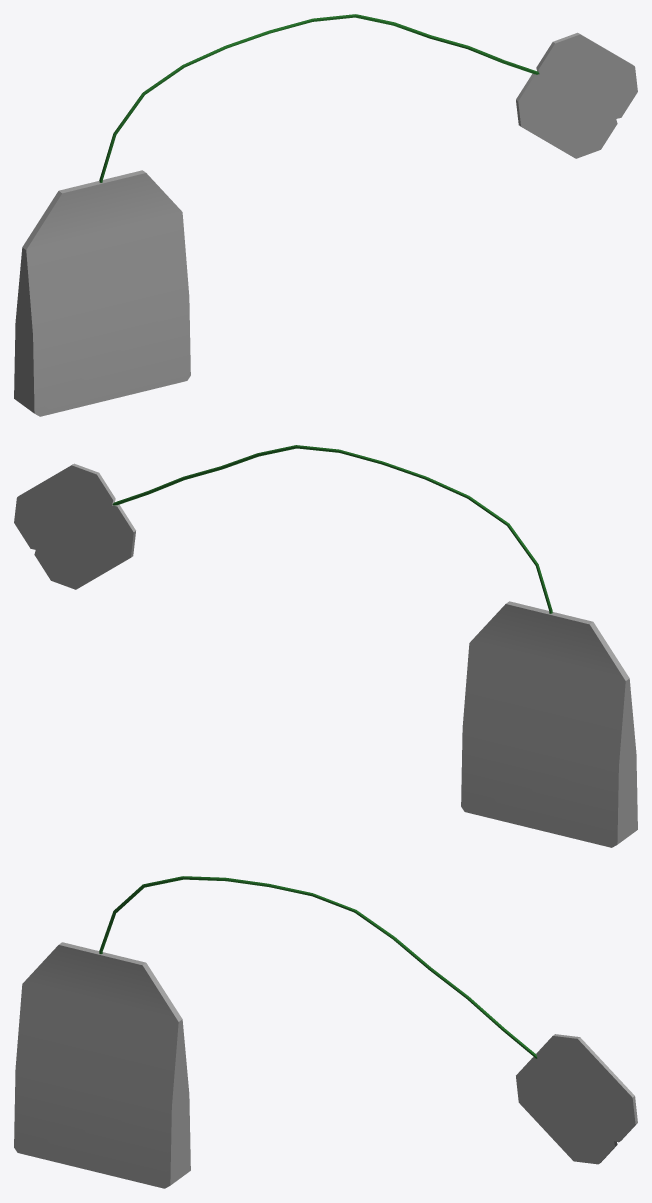
Rendered from TeaBag1.fbx.
The picture shows the model from 3 angles, top to bottom: view 1: azimuth 30°, elevation 25°; view 2: azimuth 150°, elevation 25°; view 3: azimuth 330°, elevation 25°; orthographic projection.
Parts seen in each view (by area): view 1: pCube346; view 2: pCube346; view 3: pCube346.
Part boxes in pixels (x1,y1,x2,y2): pCube346: (14,14,637,416); pCube346: (14,445,637,847); pCube346: (14,876,637,1188).
Bounding box in the file's own units: 0.2667 × 0.1335 × 0.017.
